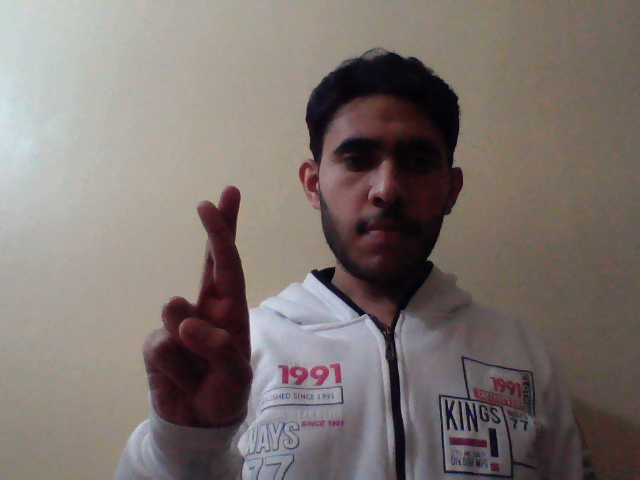R: (142, 181, 255, 430)
